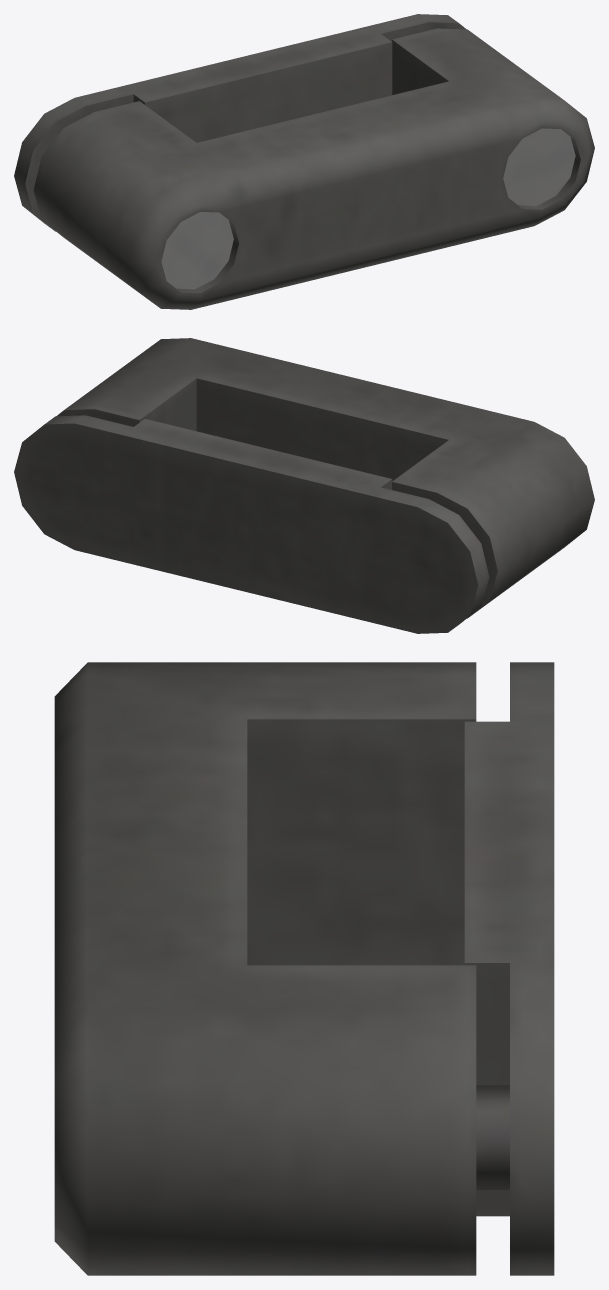
File: cable_cable_double_mount.fbx
The picture shows the model from 3 angles, top to bottom: view 1: azimuth 30°, elevation 25°; view 2: azimuth 150°, elevation 25°; view 3: azimuth 270°, elevation 25°; orthographic projection. The views are drawn at different scales.
Visible parts, largest first — view 1: modular_electric_cables__cable_double_mount; view 2: modular_electric_cables__cable_double_mount; view 3: modular_electric_cables__cable_double_mount.
Part boxes in pixels (left/top/right/bottom): modular_electric_cables__cable_double_mount: left=14, top=14, right=594, bottom=309; modular_electric_cables__cable_double_mount: left=14, top=338, right=594, bottom=633; modular_electric_cables__cable_double_mount: left=54, top=662, right=554, bottom=1275.
Bounding box in the file's own units: 0.0556 × 0.0145 × 0.0259.
